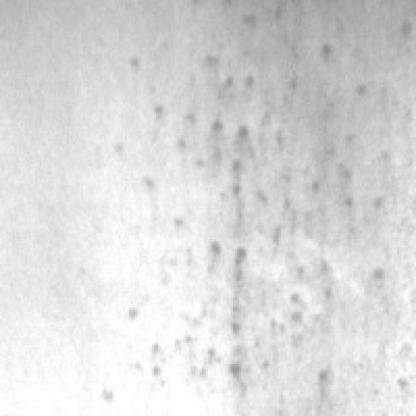pitted_surface: (127, 41, 366, 389)
